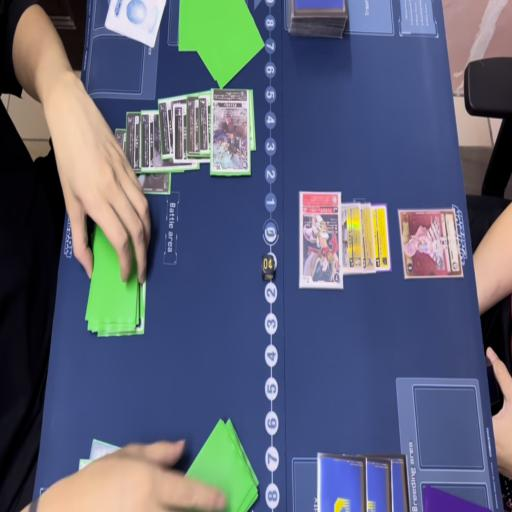card: (400, 208, 462, 283), (298, 189, 343, 289), (211, 89, 249, 178), (340, 200, 364, 280), (371, 199, 391, 281), (141, 106, 164, 176), (157, 93, 176, 161), (359, 198, 375, 277), (196, 95, 215, 161), (173, 100, 190, 168), (126, 107, 142, 172), (186, 94, 196, 160), (114, 127, 126, 173)
